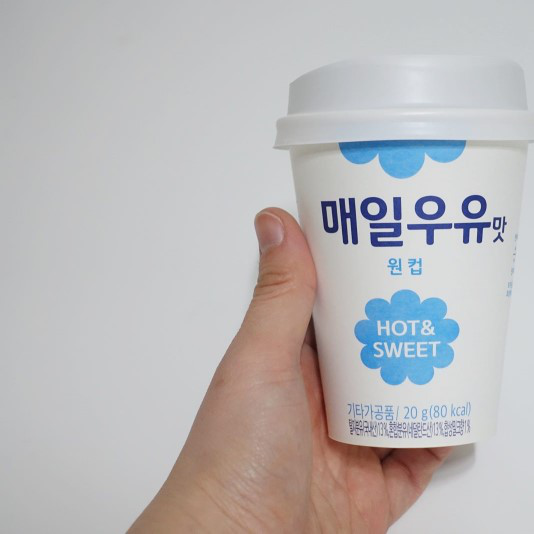milk: (273, 57, 533, 450)
